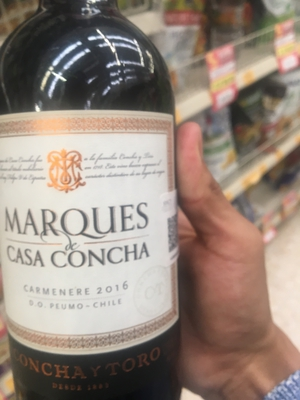marques de casa concha carmenere: (2, 12, 184, 400)
